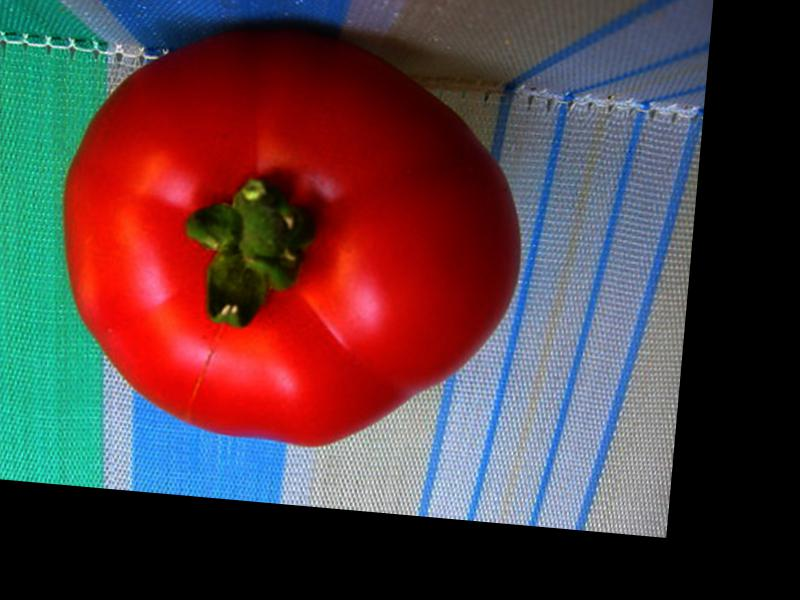Tomato: (44, 8, 535, 463)
